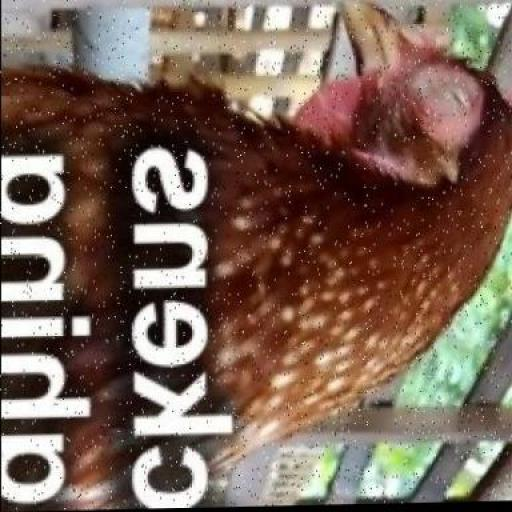disease: (397, 54, 507, 150)
